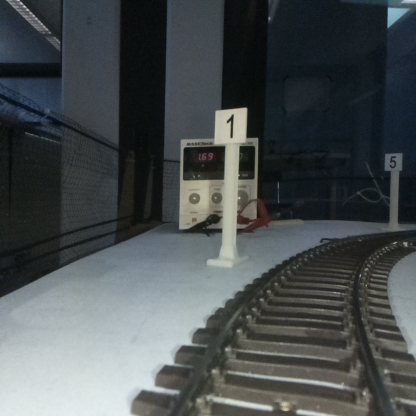white-info-1: (214, 109, 246, 264)
white-info-5: (385, 152, 401, 226)
